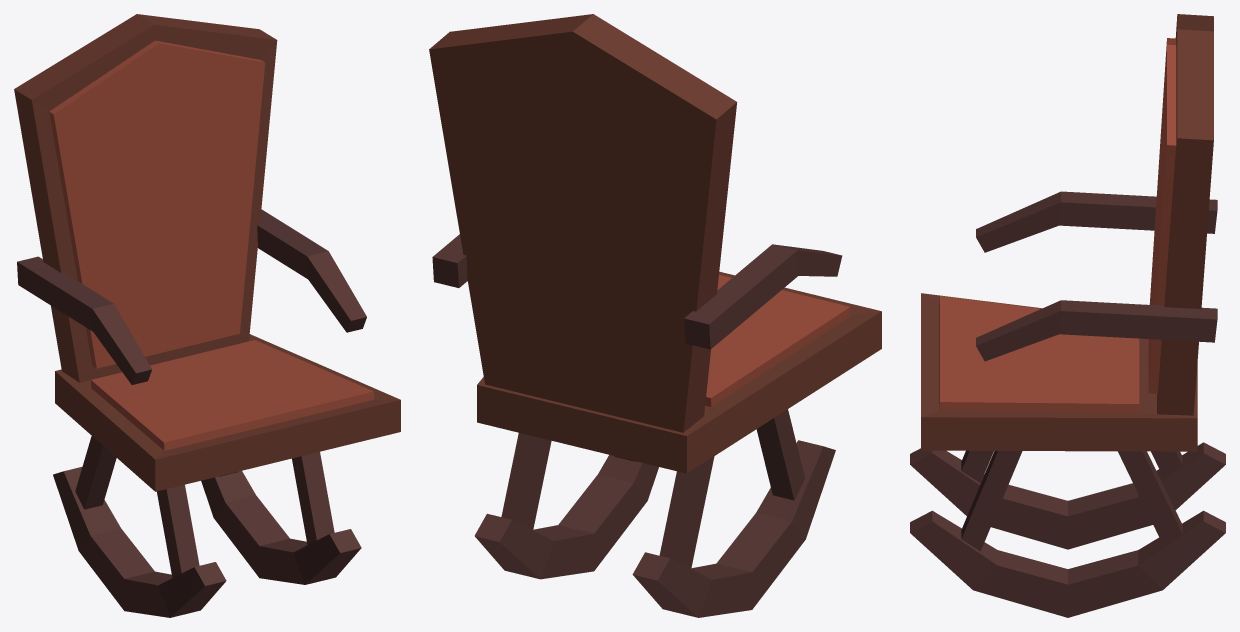
Rendered from Chair_3_Red.fbx.
3 views of the same model, side by side, from view 1: azimuth 30°, elevation 25°; view 2: azimuth 150°, elevation 25°; view 3: azimuth 270°, elevation 25° (orthographic). The views are drawn at different scales.
Visible parts, largest first — view 1: Chair_3_Red_Part_2, Chair_3_Red_Part_1, Chair_3_Red_Part_3; view 2: Chair_3_Red_Part_1, Chair_3_Red_Part_3, Chair_3_Red_Part_2; view 3: Chair_3_Red_Part_3, Chair_3_Red_Part_1, Chair_3_Red_Part_2.
Part boxes in pixels (x1,y1,x2,y2): Chair_3_Red_Part_2: (49, 40, 374, 450); Chair_3_Red_Part_1: (14, 14, 400, 491); Chair_3_Red_Part_3: (17, 209, 366, 617); Chair_3_Red_Part_1: (429, 14, 881, 473); Chair_3_Red_Part_3: (432, 234, 842, 617); Chair_3_Red_Part_2: (705, 275, 850, 407); Chair_3_Red_Part_3: (910, 191, 1225, 617); Chair_3_Red_Part_1: (921, 14, 1213, 451); Chair_3_Red_Part_2: (939, 38, 1176, 412).
Size of the model in its own units: 80 by 164 by 85.96.
